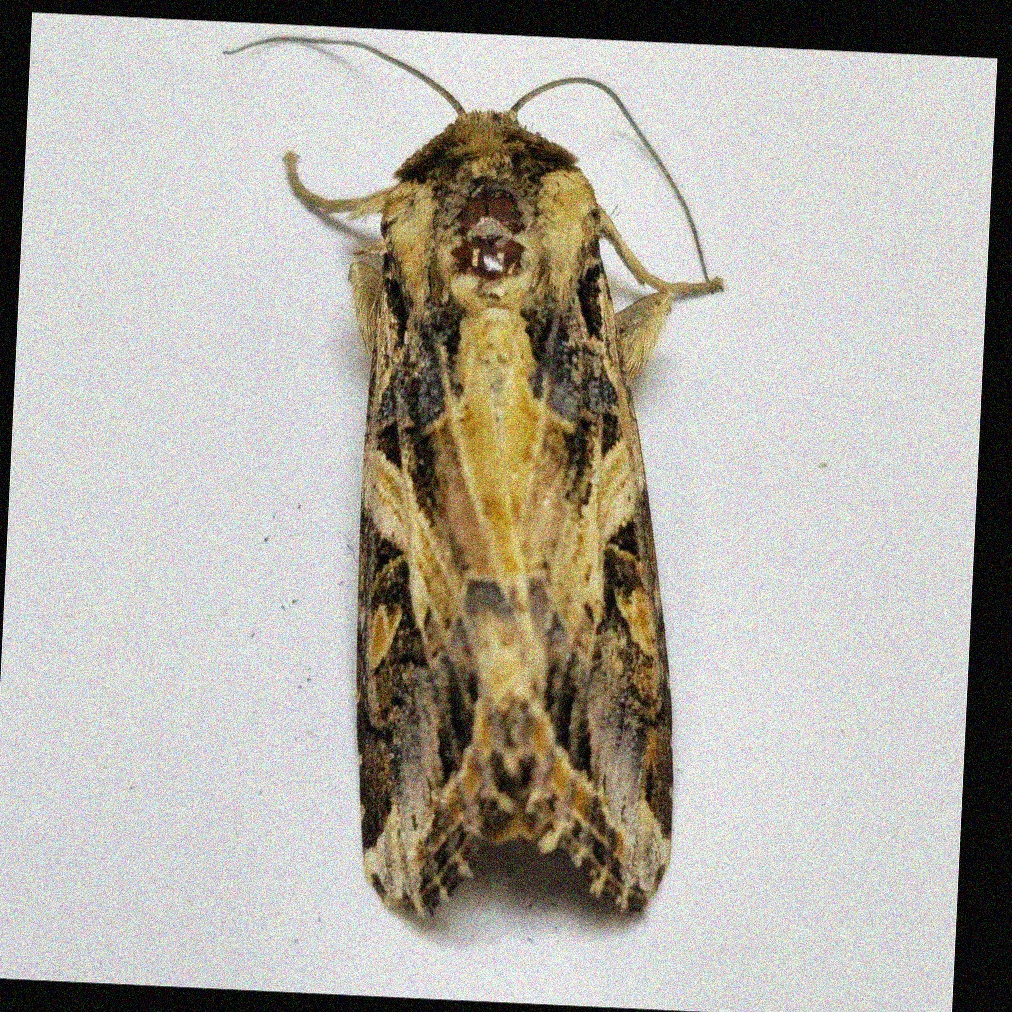Spodoptera litura: (200, 44, 714, 923)
